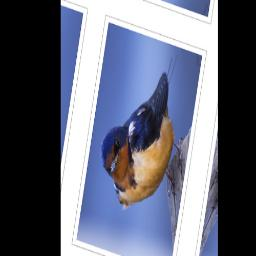Swallow: (92, 31, 200, 228)
